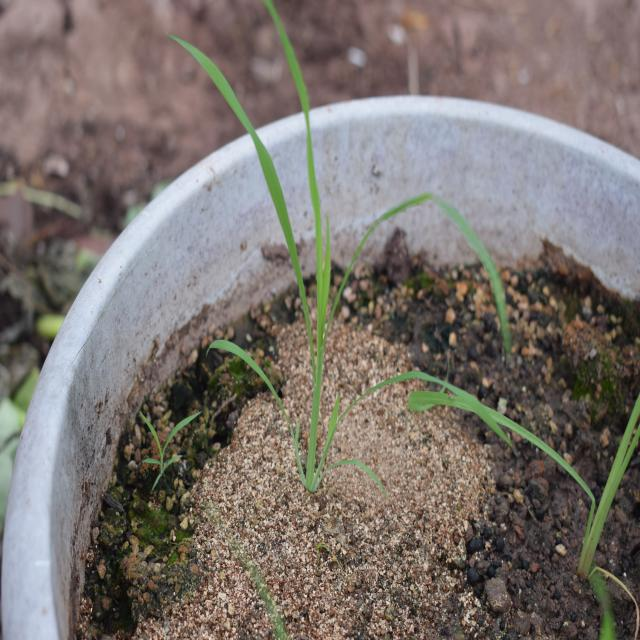barnyard_grass: (179, 47, 510, 496)
